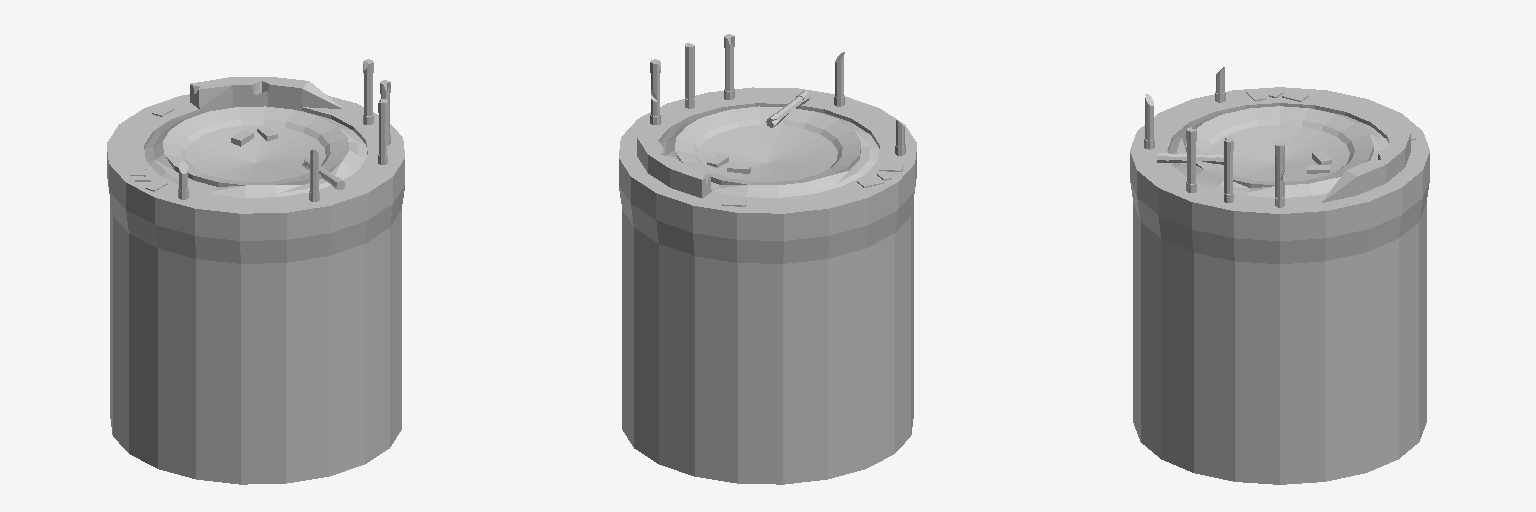
The model's file is ArenaExport.obj.
3 renders of one model, left to right at view 1: azimuth 30°, elevation 25°; view 2: azimuth 150°, elevation 25°; view 3: azimuth 270°, elevation 25°, orthographic.
Visible parts, largest first — view 1: Arena; view 2: Arena; view 3: Arena.
Part boxes in pixels (bbox=[...]): Arena: bbox=[107, 59, 404, 484]; Arena: bbox=[619, 34, 916, 484]; Arena: bbox=[1130, 67, 1429, 484].
Size of the model in its own units: 18.9 by 23.18 by 18.9.